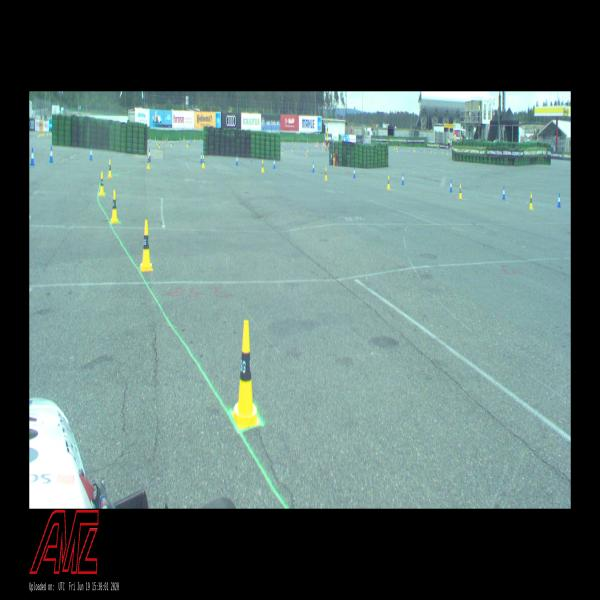blue_cone: (30, 147, 35, 166), (49, 146, 53, 163), (557, 192, 561, 208), (89, 146, 93, 161), (235, 154, 239, 166), (502, 186, 505, 200), (148, 149, 151, 161), (200, 151, 203, 163), (312, 162, 315, 173), (352, 167, 355, 178), (450, 179, 452, 192), (402, 173, 404, 185), (273, 157, 275, 169)
yellow_cone: (231, 321, 260, 430), (139, 219, 153, 271), (110, 190, 119, 224), (99, 172, 105, 196), (107, 160, 112, 178), (529, 194, 533, 209), (146, 154, 150, 169), (202, 155, 206, 168), (387, 175, 390, 190), (459, 184, 462, 199), (261, 159, 264, 173), (324, 167, 327, 181)
